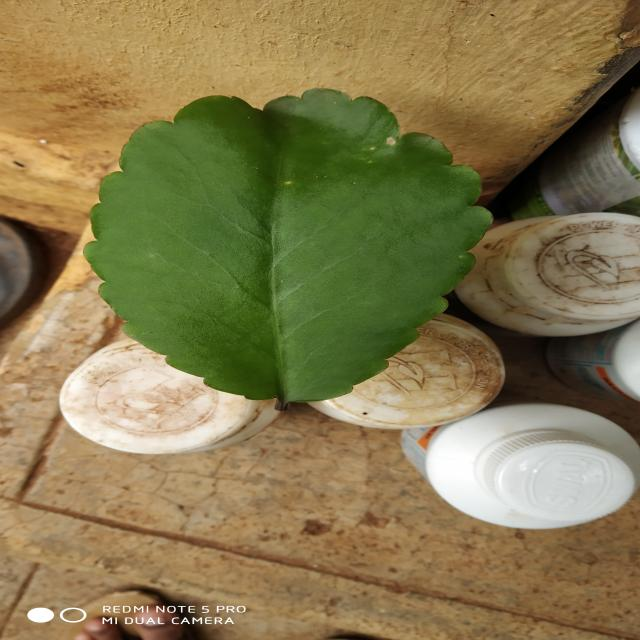defectedspinach: (260, 89, 480, 240)
spinach: (84, 89, 489, 410)
